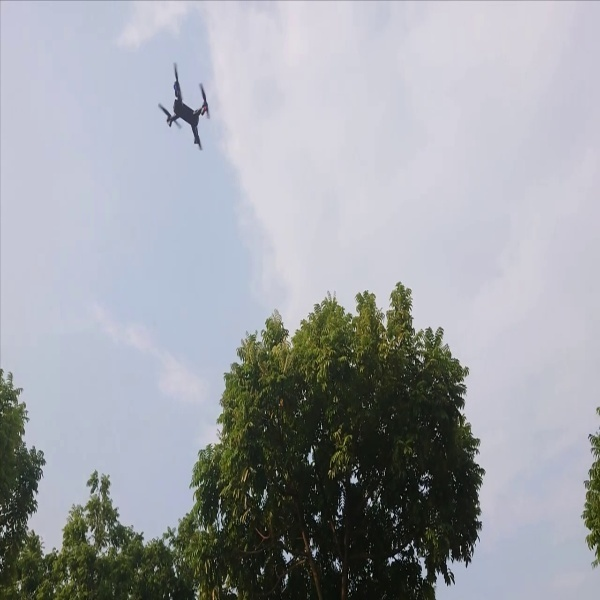drone: (151, 58, 221, 157)
